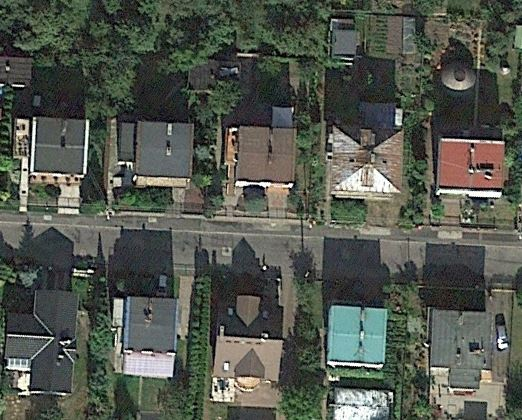family house: (2, 284, 79, 396), (213, 291, 291, 387), (108, 289, 181, 380), (323, 122, 409, 197), (114, 117, 201, 191), (7, 113, 98, 182), (425, 306, 496, 394), (222, 121, 302, 190), (431, 135, 508, 199), (325, 304, 390, 371)
